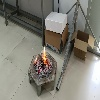fire: (42, 46, 48, 67), (34, 56, 37, 65)
